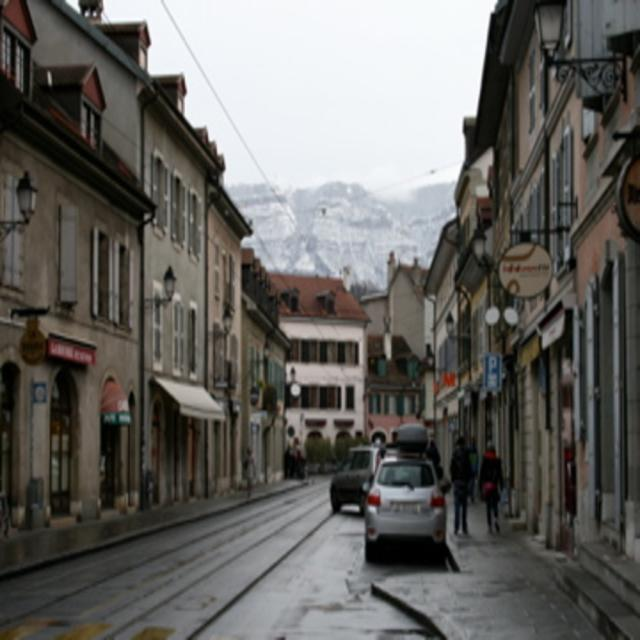car: (360, 449, 447, 556)
